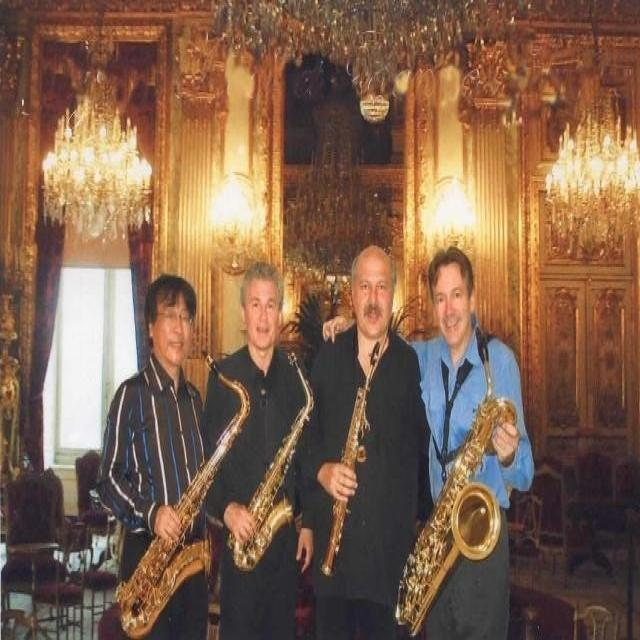saxophone: (387, 326, 517, 636), (115, 345, 249, 637), (230, 348, 317, 576)
